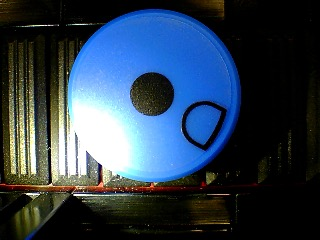BOHOMIPO1: (67, 8, 243, 183)
